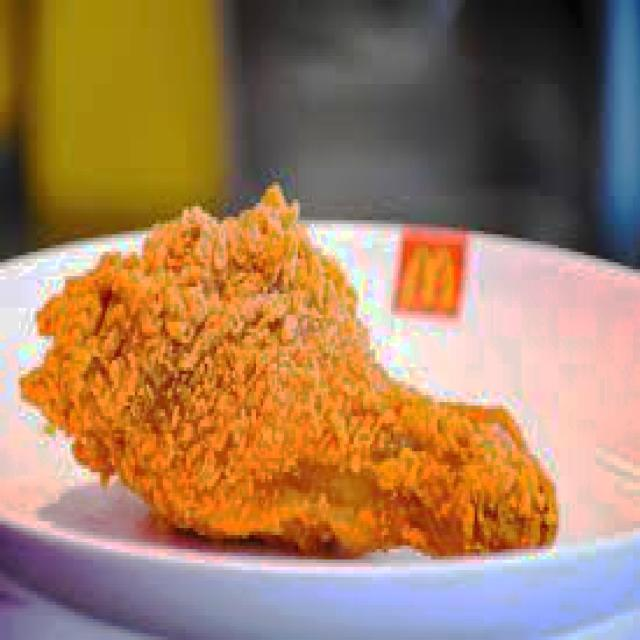fried_chicken: (21, 178, 563, 560)
